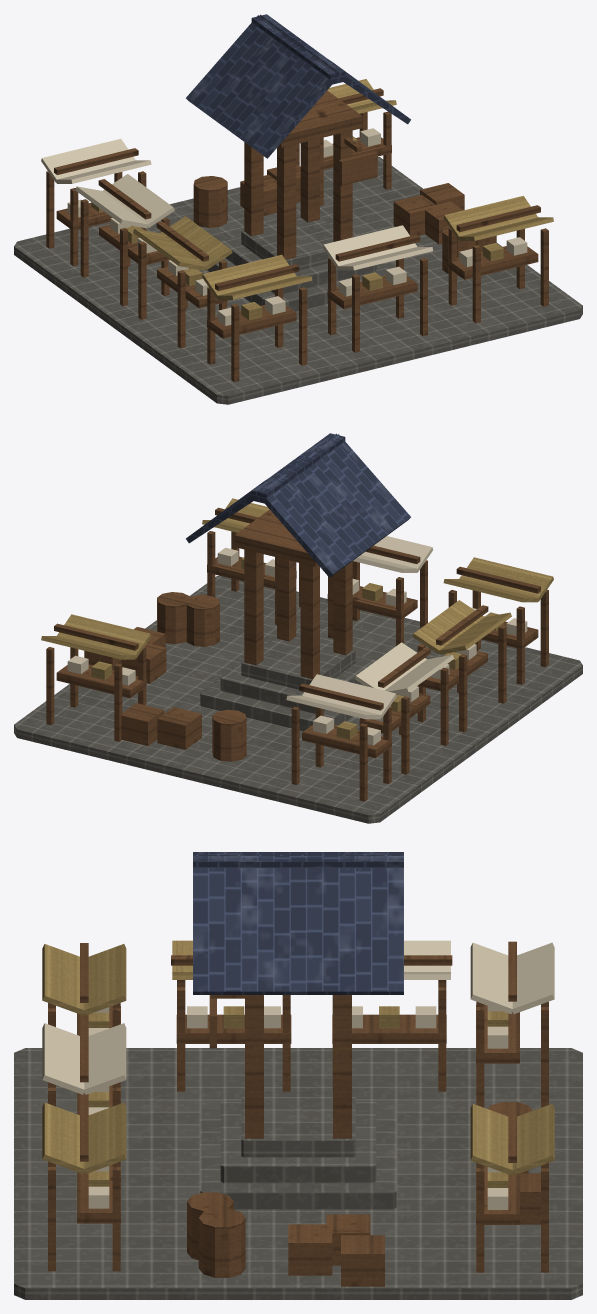
The model's file is market.gltf.
3 renders of one model, top to bottom at view 1: azimuth 30°, elevation 25°; view 2: azimuth 150°, elevation 25°; view 3: azimuth 270°, elevation 25°, orthographic. The views are drawn at different scales.
Visible parts, largest first — view 1: Market; view 2: Market; view 3: Market.
Part boxes in pixels (x1,y1,x2,y2): Market: (14,14,582,404); Market: (14,433,582,823); Market: (14,852,582,1299).
Bounding box in the file's own units: 3.88 × 2.44 × 3.88.
Materials: 8 (7 with a texture image).
